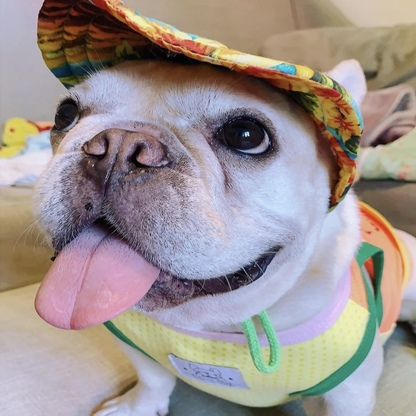bulldog: (29, 52, 416, 416)
